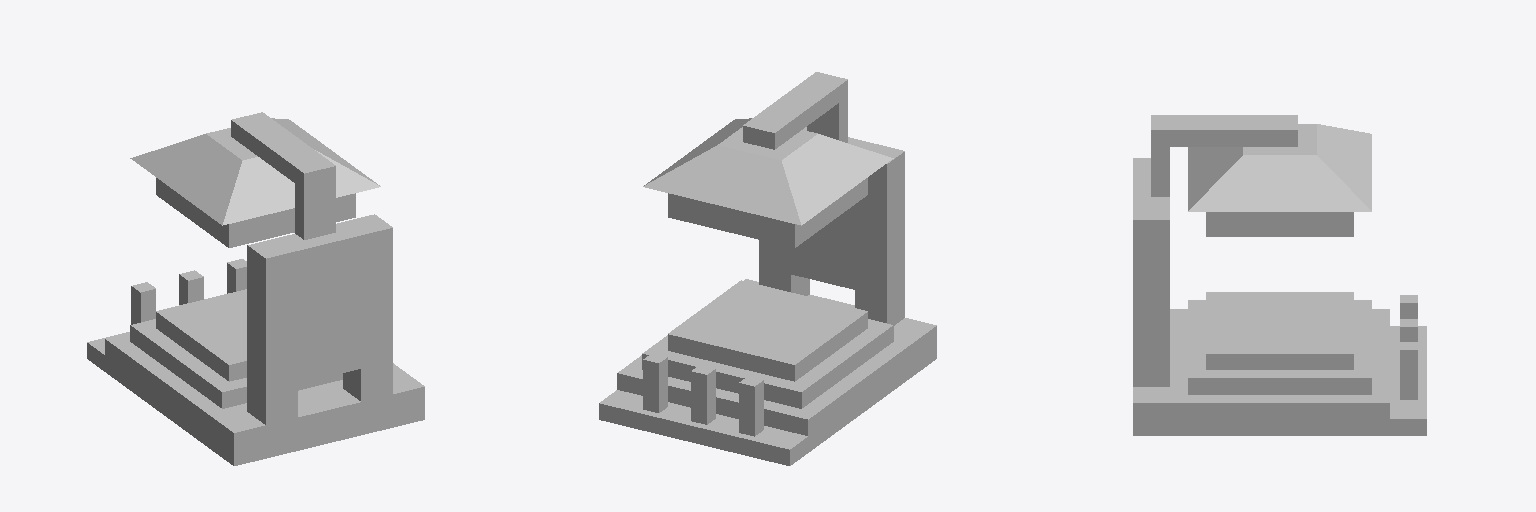
File: charging_station.obj
The picture shows the model from 3 angles: view 1: azimuth 30°, elevation 25°; view 2: azimuth 150°, elevation 25°; view 3: azimuth 270°, elevation 25°; orthographic projection.
Parts seen in each view (by area): view 1: base; view 2: base; view 3: base.
Part boxes in pixels (left/top/right/bottom): base: left=87, top=112, right=424, bottom=465; base: left=599, top=72, right=936, bottom=465; base: left=1133, top=115, right=1426, bottom=435.
Bounding box in the file's own units: 0.75 × 1 × 1.